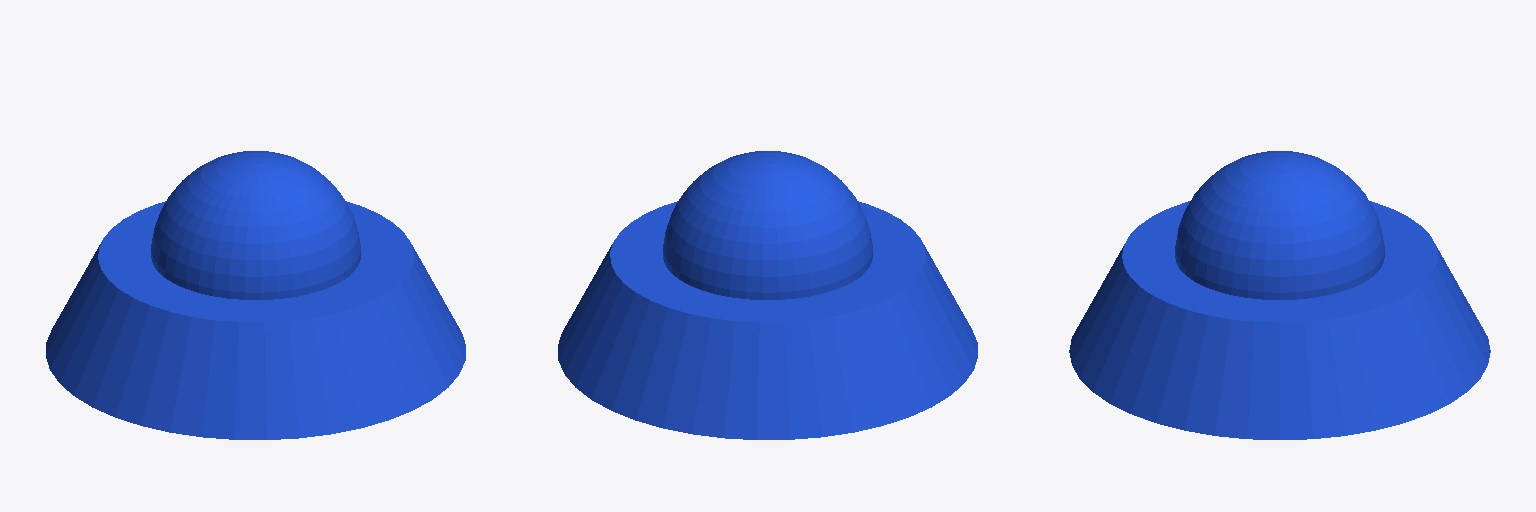
The model's file is ship1.obj.
3 renders of one model, left to right at view 1: azimuth 30°, elevation 25°; view 2: azimuth 150°, elevation 25°; view 3: azimuth 270°, elevation 25°, orthographic.
Bounding box in the file's own units: 0.8 × 0.3994 × 0.8.